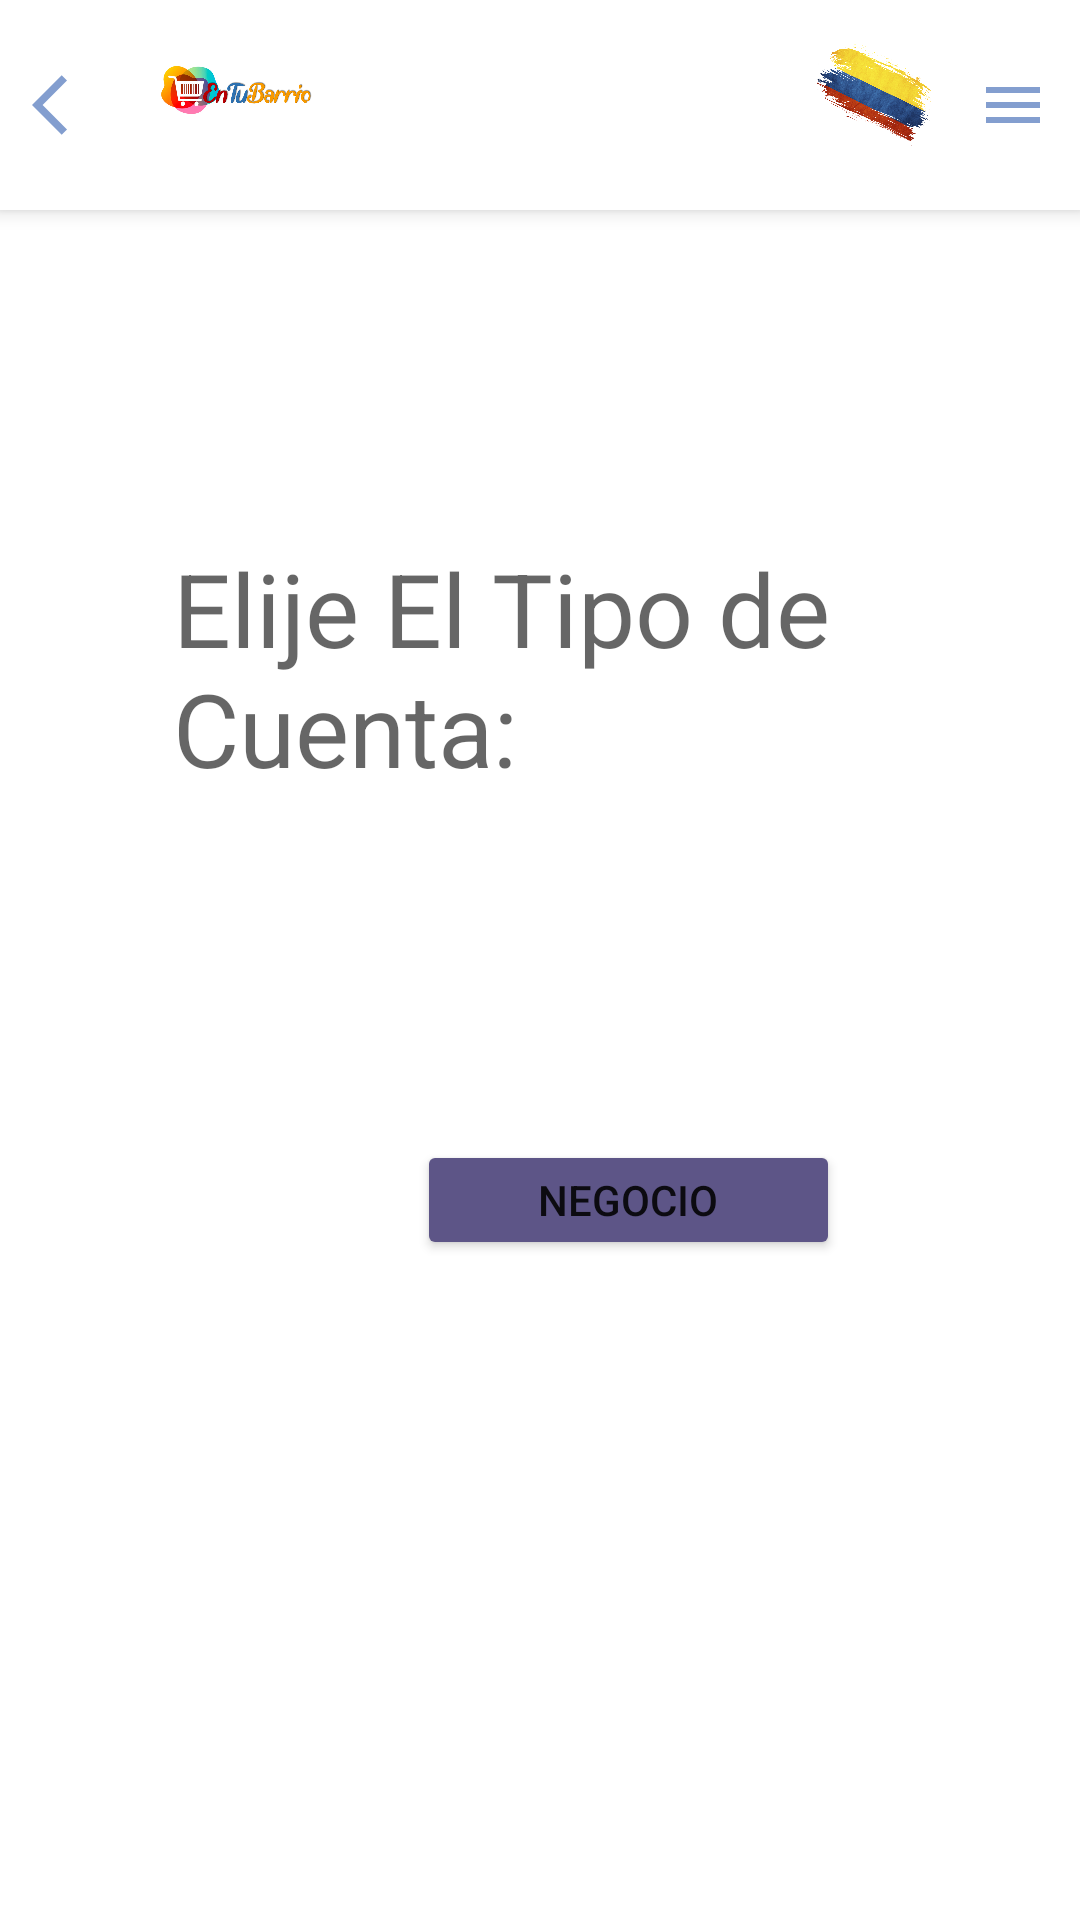

Screen size 1080*1920. Icon name, then its center in pixels as point (x, y):
arrow back: point (49, 105)
menu: point (1013, 105)
